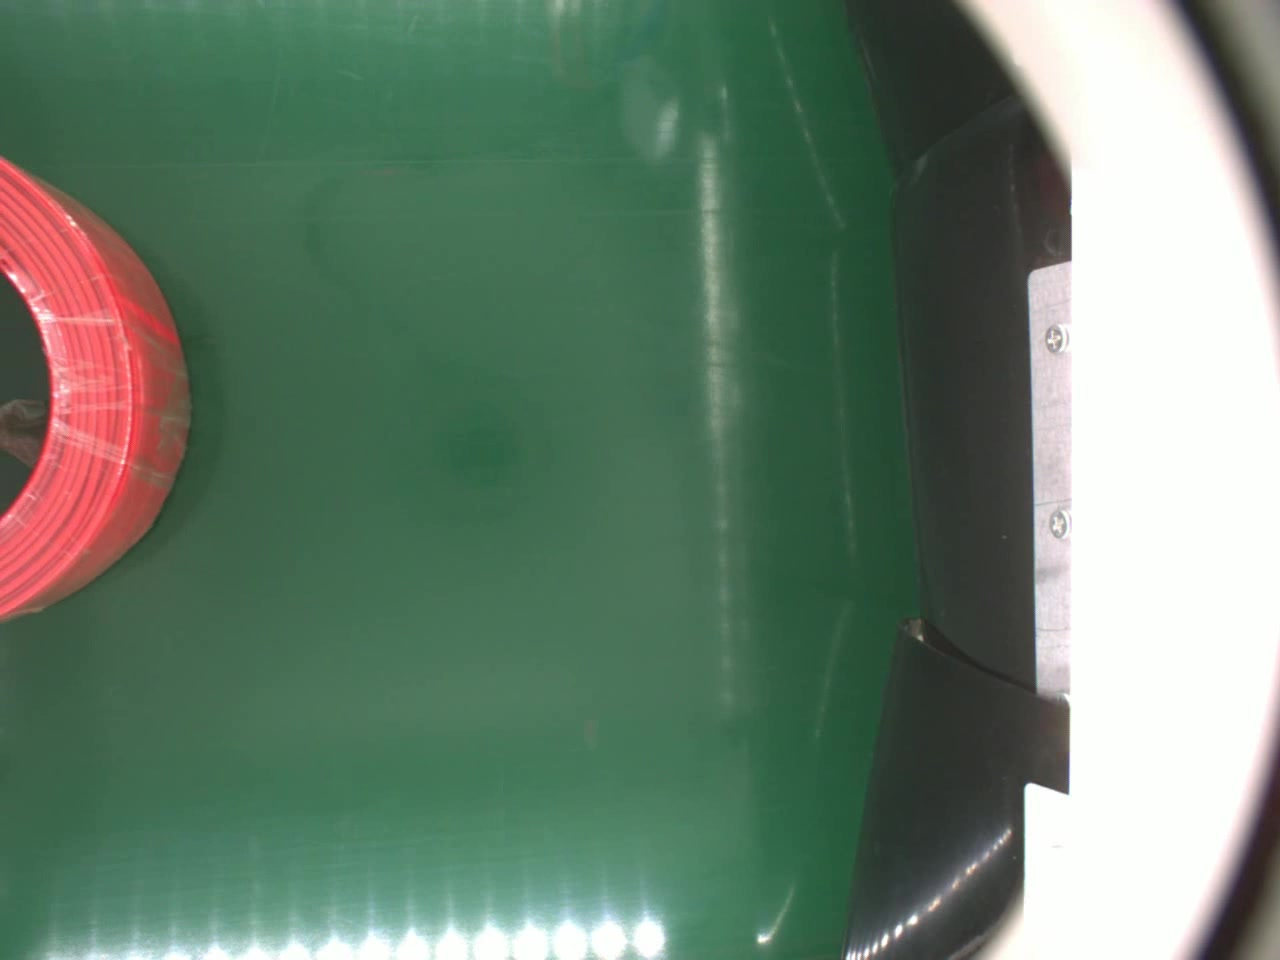red: (0, 153, 200, 624)
